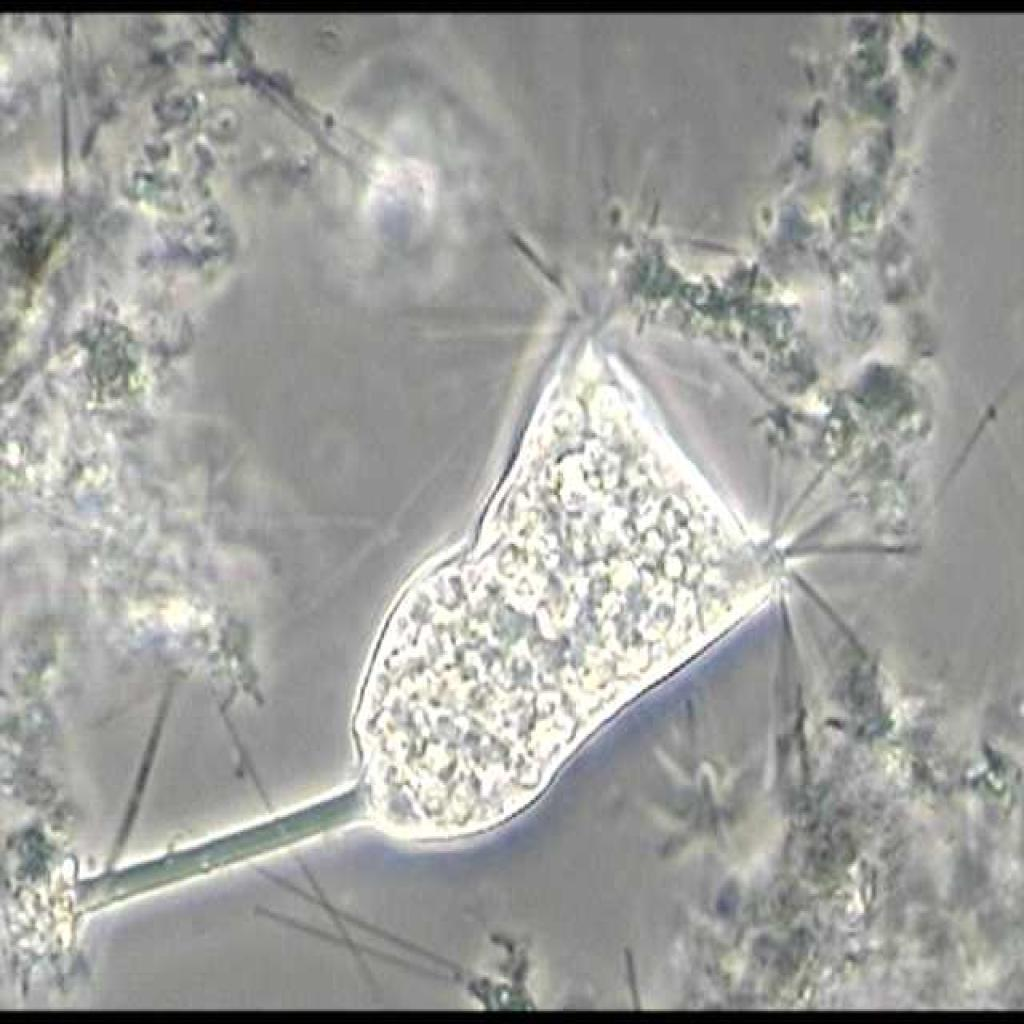Suctorida: (190, 238, 960, 910)
